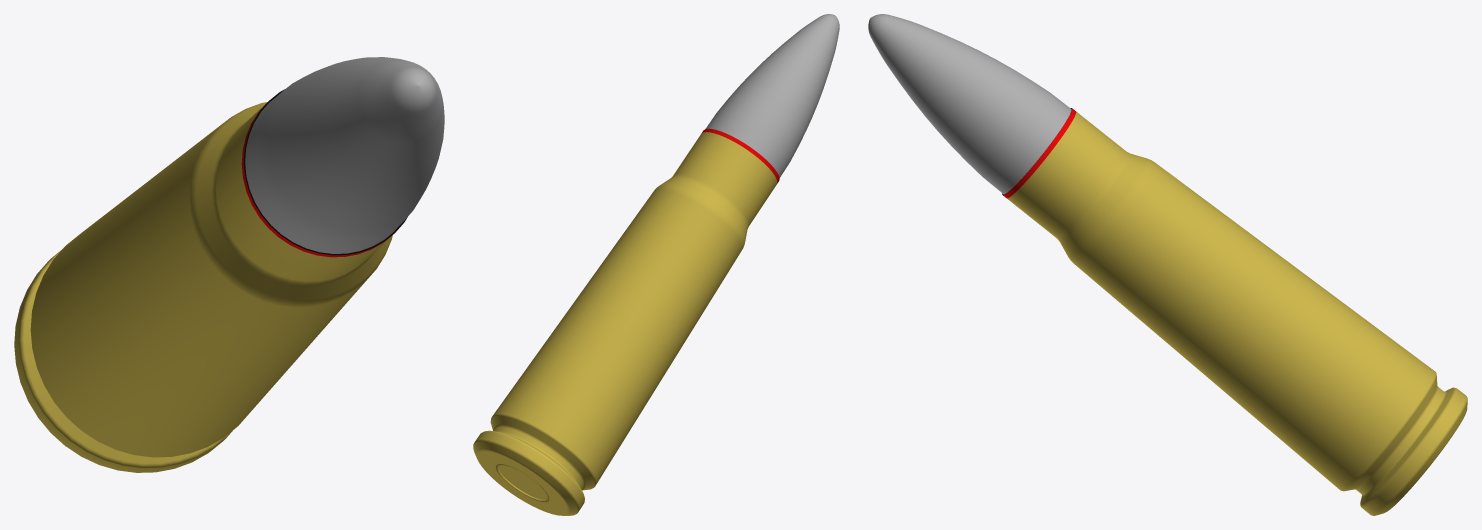
Rendered from balle.fbx.
The picture shows the model from 3 angles, left to right: view 1: azimuth 30°, elevation 25°; view 2: azimuth 150°, elevation 25°; view 3: azimuth 270°, elevation 25°; orthographic projection. The views are drawn at different scales.
Parts seen in each view (by area): view 1: Group024; view 2: Group024; view 3: Group024.
Boxes of the visible parts, x1=… form: Group024: x1=14, y1=57, x2=444, y2=472; Group024: x1=473, y1=14, x2=839, y2=515; Group024: x1=868, y1=14, x2=1467, y2=515.
Size of the model in its own units: 16.85 by 38.14 by 46.34.
